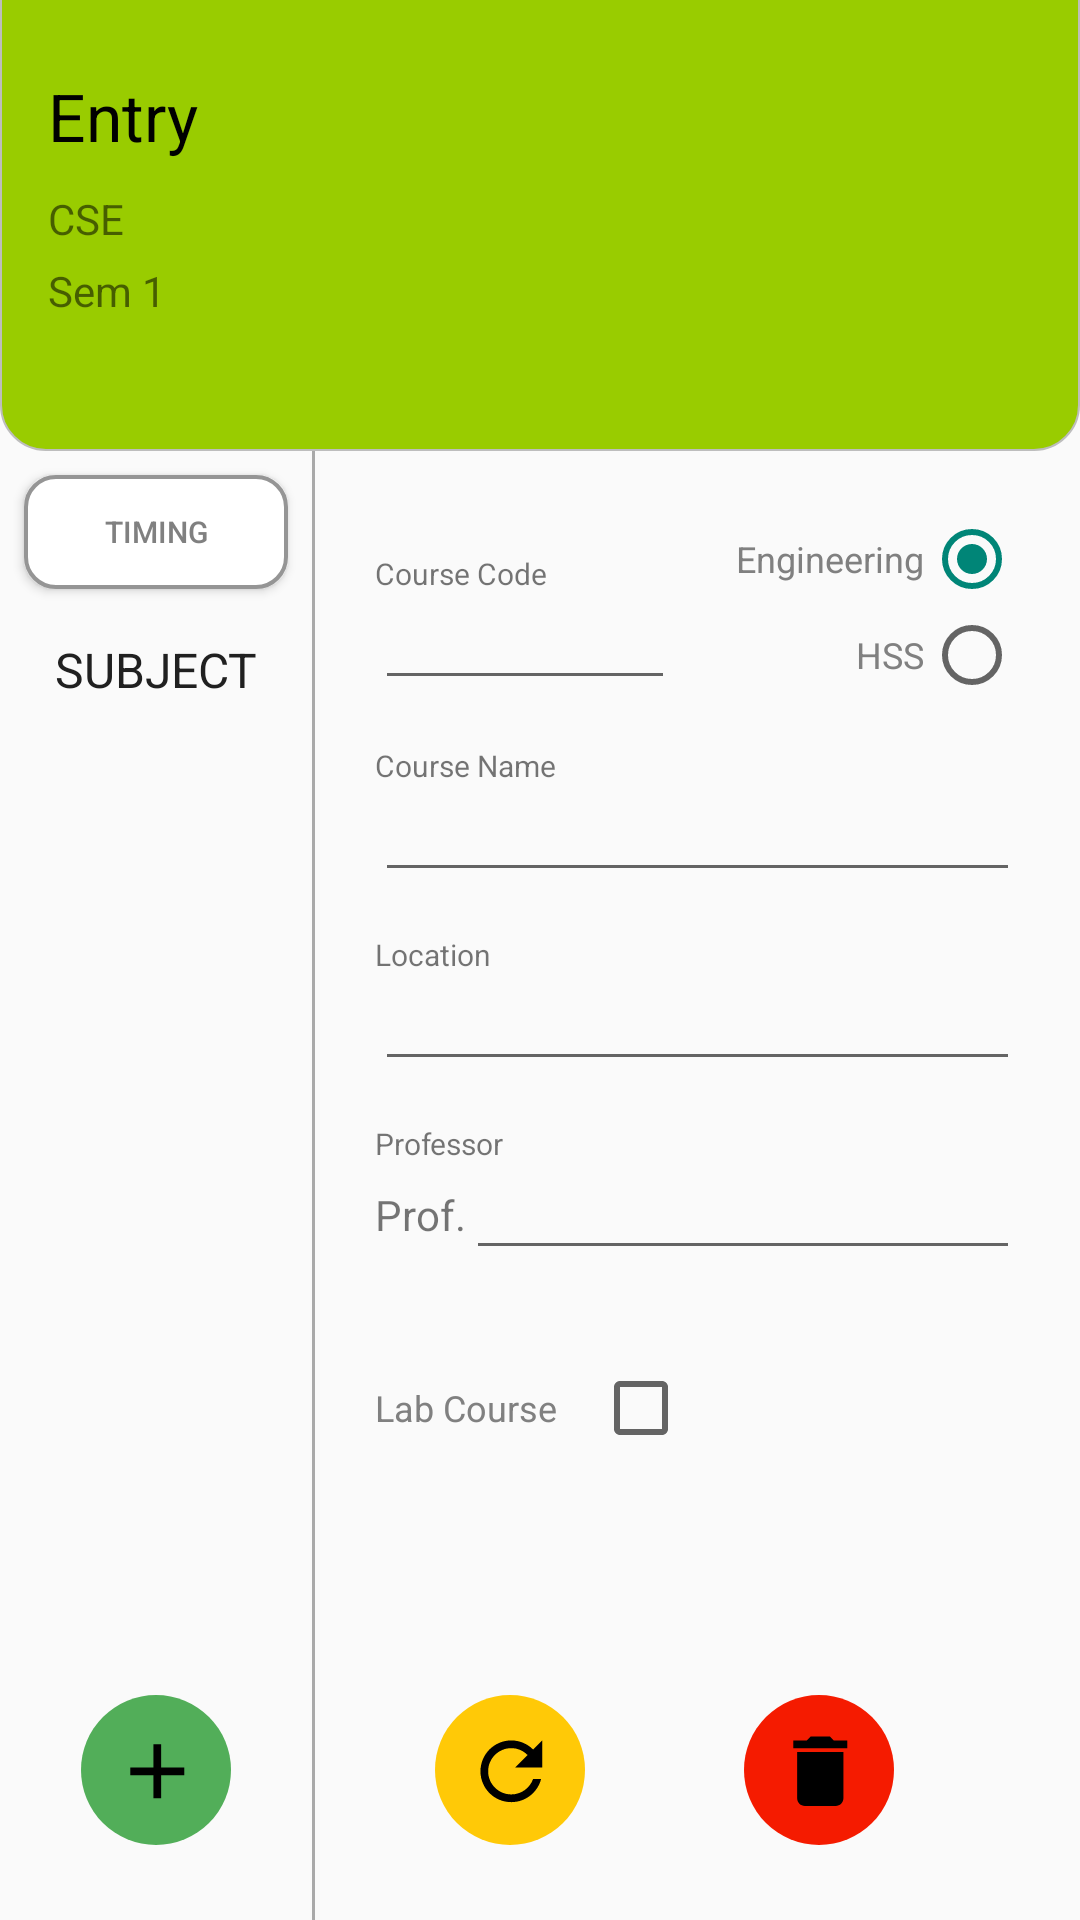

Locate icon controls on the screen. Image size 1080 x 1920, boxes as (x1, y1, x2, y2).
add: (81, 1695, 231, 1845)
delete: (744, 1695, 894, 1845)
refresh: (435, 1695, 585, 1845)
